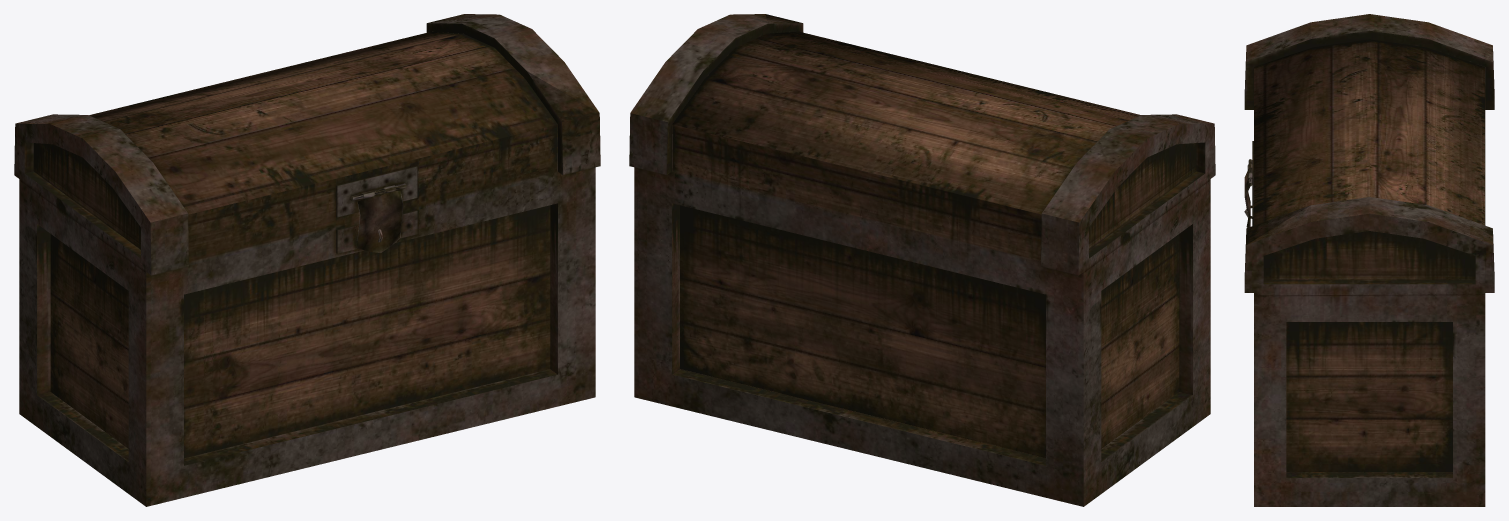
The model's file is chest1.fbx.
3 views of the same model, side by side, from view 1: azimuth 30°, elevation 25°; view 2: azimuth 150°, elevation 25°; view 3: azimuth 270°, elevation 25° (orthographic). The views are drawn at different scales.
Parts seen in each view (by area): view 1: Chest.001, Chest; view 2: Chest.001, Chest; view 3: Chest, Chest.001.
Boxes of the visible parts, x1=… form: Chest.001: x1=19, y1=167, x2=595, y2=506; Chest: x1=14, y1=14, x2=600, y2=275; Chest.001: x1=634, y1=135, x2=1210, y2=506; Chest: x1=629, y1=14, x2=1215, y2=275; Chest: x1=1244, y1=14, x2=1494, y2=292; Chest.001: x1=1252, y1=93, x2=1485, y2=506.
Size of the model in its own units: 98.43 by 67.4 by 52.14.
